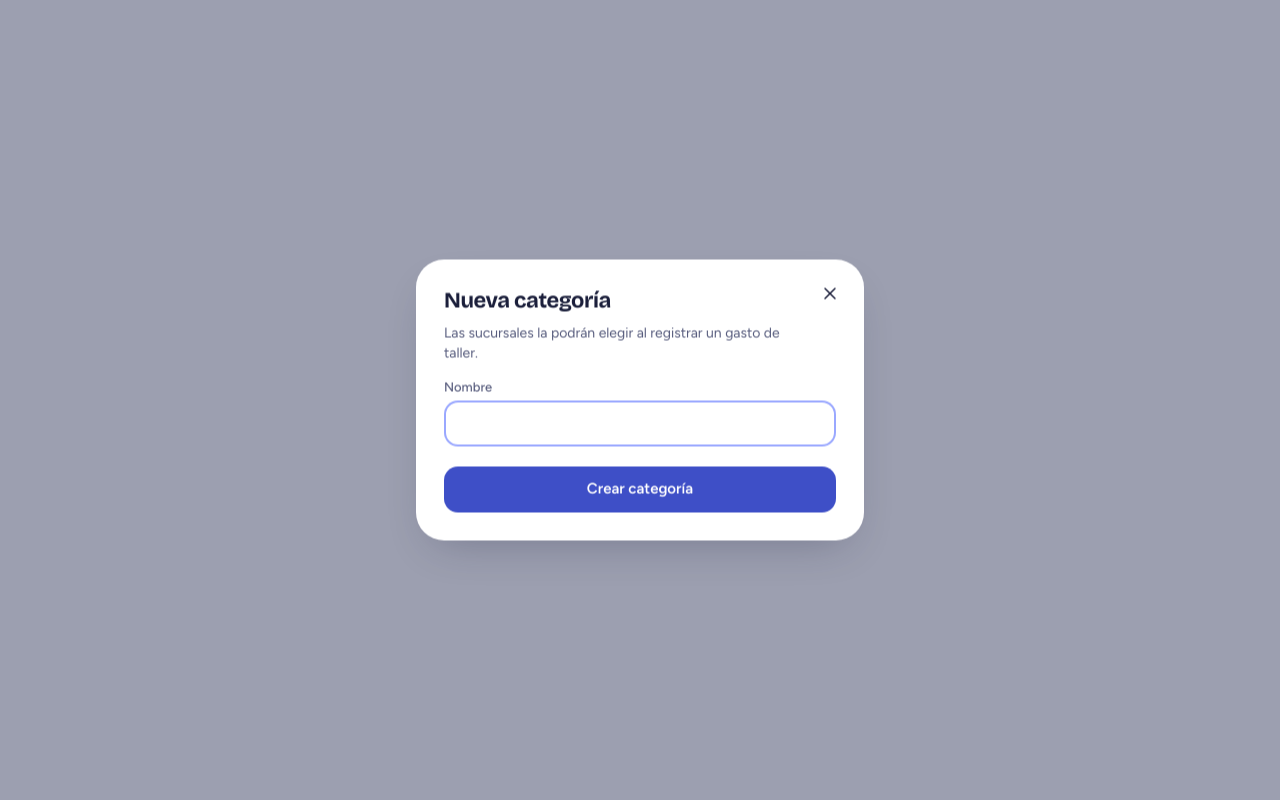
creating a category › shows any other failure on top of the form
Type "Turbo" into the field labelled "Nombre" at coordinates (640, 424), box [444,400,836,446]
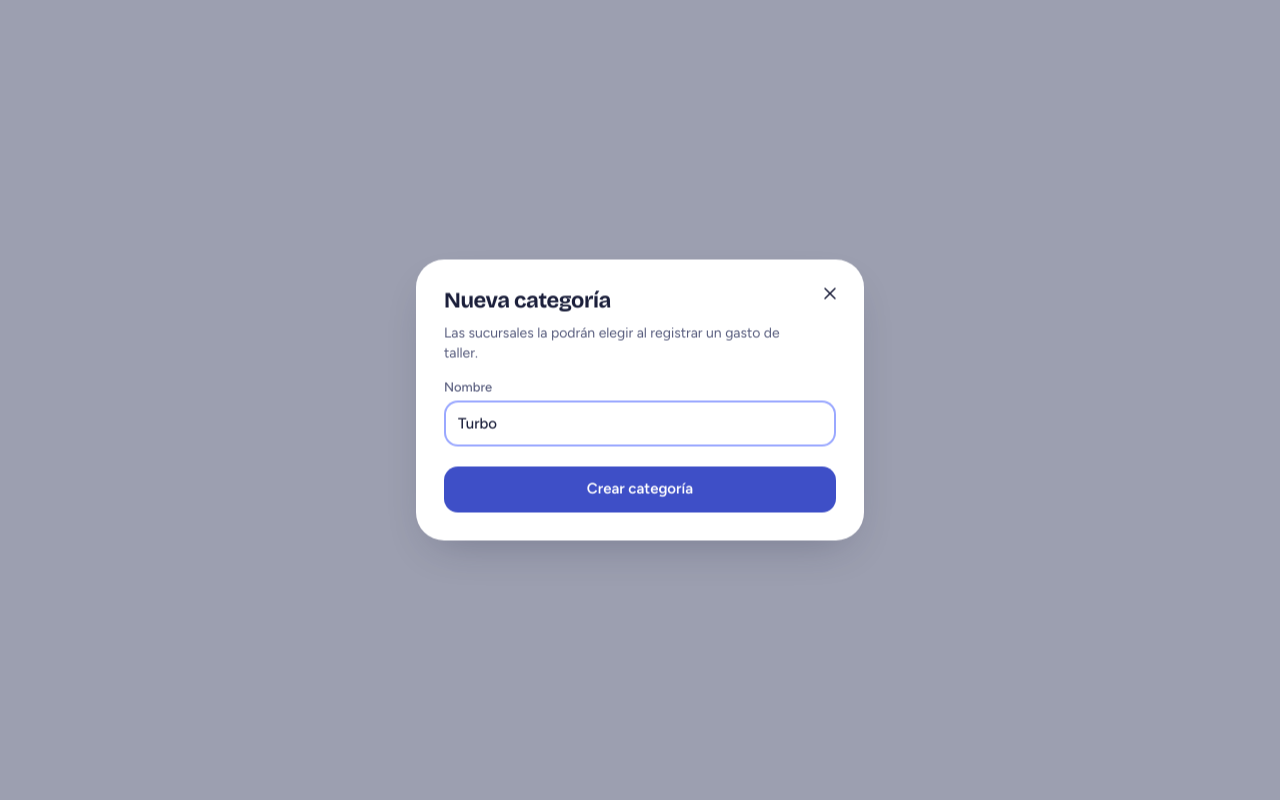
Click the button "Crear categoría" at coordinates (640, 490), box [444,466,836,512]
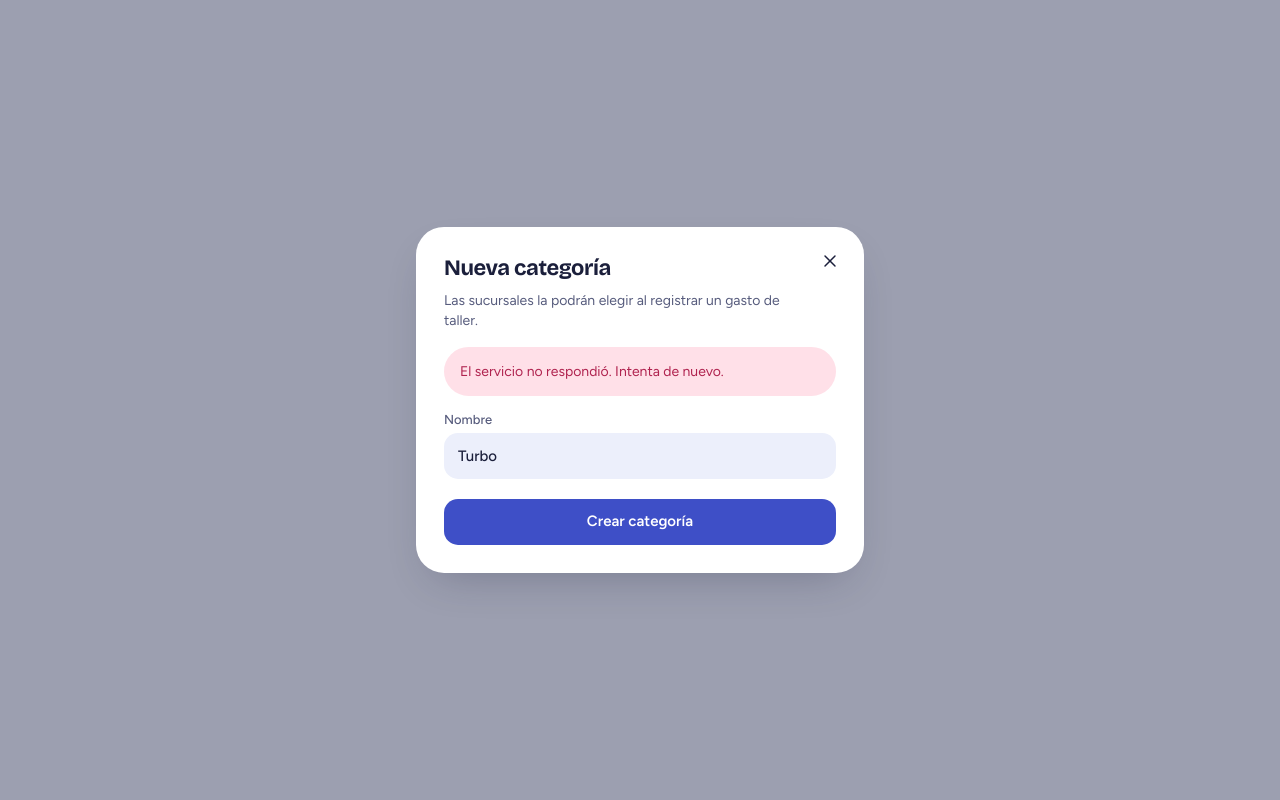
Result: the message shows "El servicio no respondió." at [460,362,724,380]
